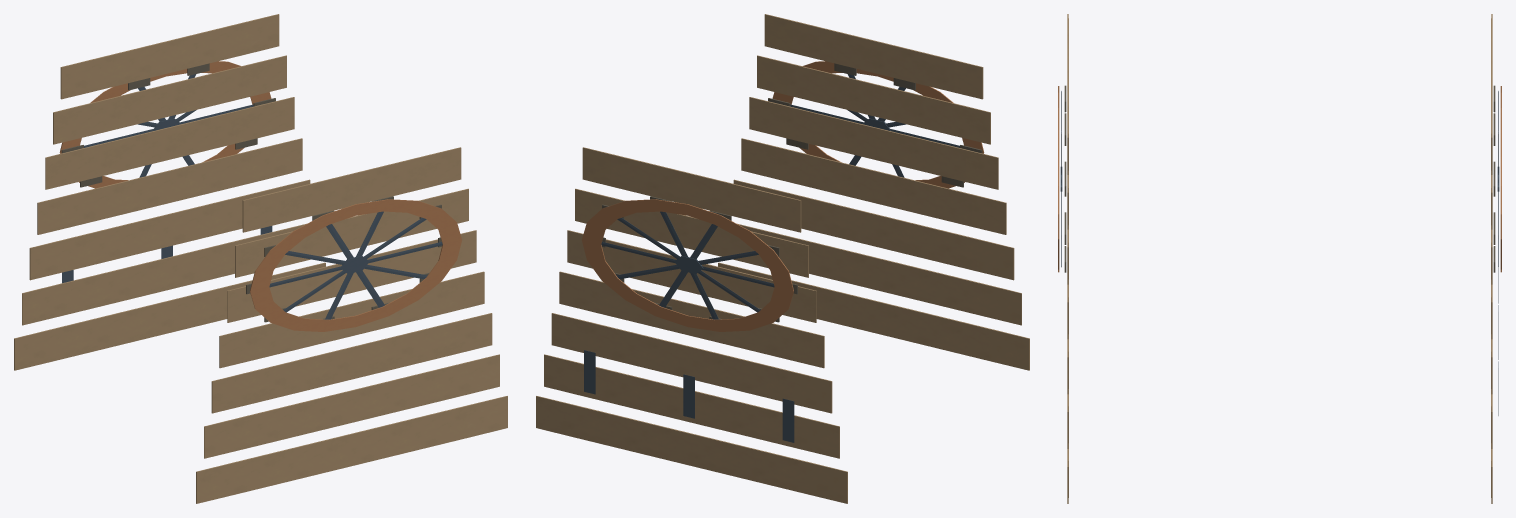
Rendered from siltwake-strata-wheelhouse-0.glb.
3 renders of one model, left to right at view 1: azimuth 30°, elevation 25°; view 2: azimuth 150°, elevation 25°; view 3: azimuth 270°, elevation 25°, orthographic. The views are drawn at different scales.
Parts seen in each view (by area): view 1: siltwake-strata-wheelhouse_LOD0; view 2: siltwake-strata-wheelhouse_LOD0; view 3: siltwake-strata-wheelhouse_LOD0.
Boxes of the visible parts, x1,y1,x2,y2 form: siltwake-strata-wheelhouse_LOD0: (14, 14, 507, 503); siltwake-strata-wheelhouse_LOD0: (536, 14, 1029, 503); siltwake-strata-wheelhouse_LOD0: (1058, 14, 1501, 503).
Bounding box in the file's own units: 0.94 × 0.842 × 0.9967.
4 materials, 4 textured.
